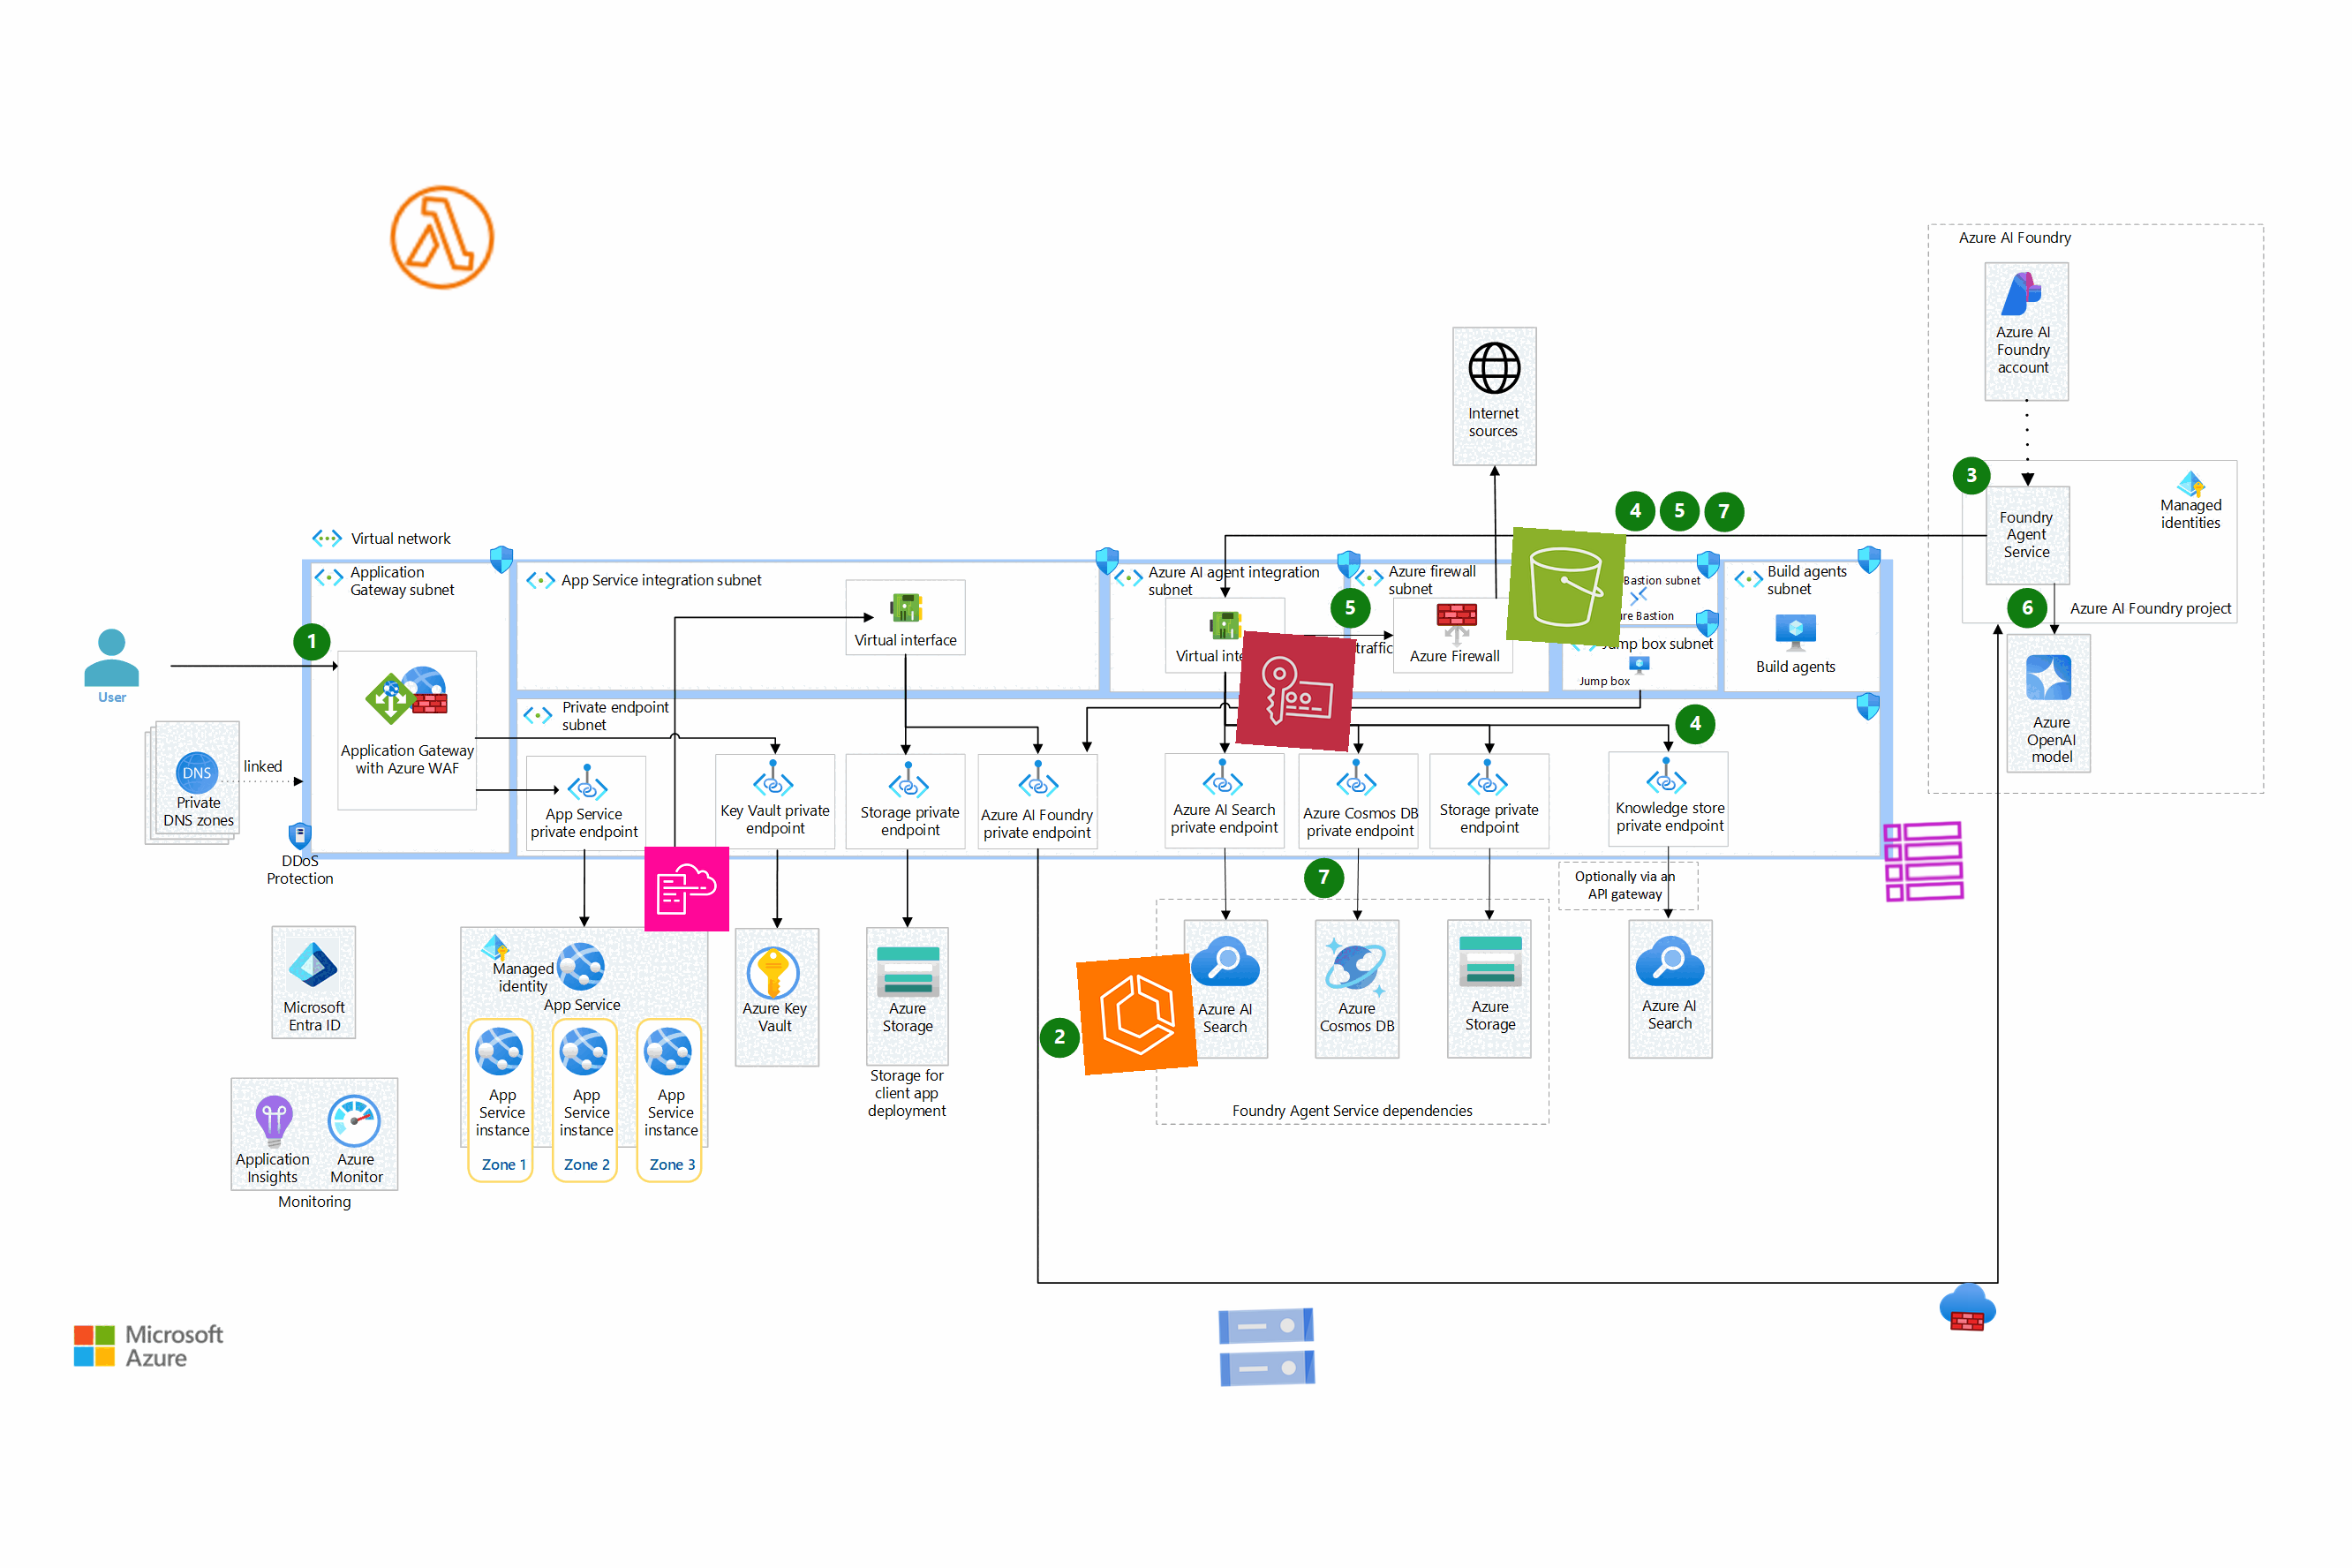aws_amazon_elastic_container_service: (1076, 954, 1199, 1074)
aws_amazon_simple_storage_service: (1505, 527, 1627, 647)
aws_cloudformation: (644, 845, 730, 933)
aws_dynamodb_table: (1879, 817, 1969, 906)
aws_key_management_service: (1235, 630, 1356, 752)
aws_lambda_lambda_function: (380, 175, 504, 299)
azure_firewalls: (1937, 1277, 1999, 1337)
gcp_cloud_storage: (1209, 1290, 1325, 1405)
